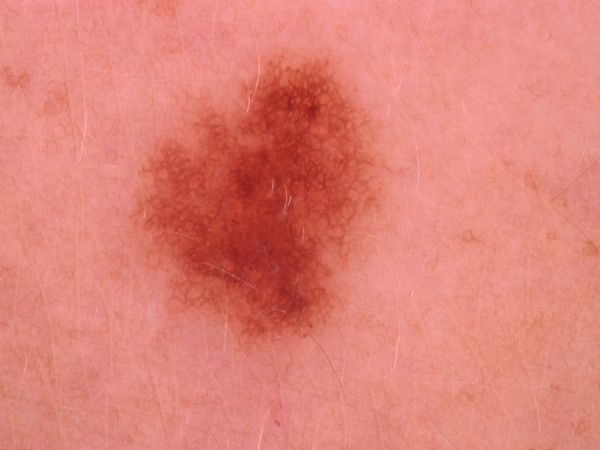Detected Lesion: (132, 48, 380, 354)
